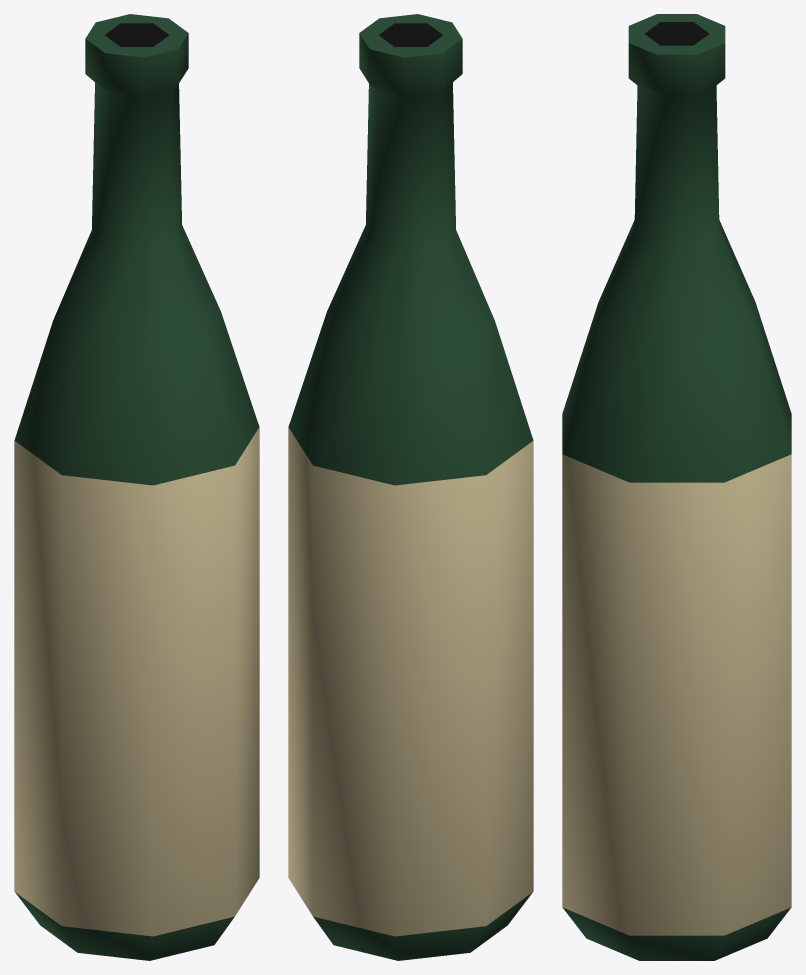
The model's file is bottle.glb.
The picture shows the model from 3 angles, left to right: view 1: azimuth 30°, elevation 25°; view 2: azimuth 150°, elevation 25°; view 3: azimuth 270°, elevation 25°; orthographic projection.
Parts seen in each view (by area): view 1: Body; view 2: Body; view 3: Body.
Boxes of the visible parts, x1,y1,x2,y2 form: Body: (14,14,259,960); Body: (288,14,533,960); Body: (562,14,791,960).
Size of the model in its own units: 0.0702 by 0.3002 by 0.0702.
